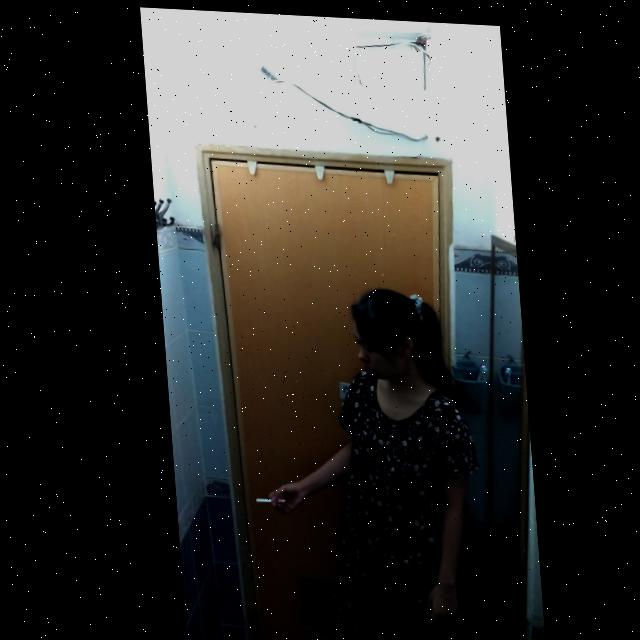cigarette: (247, 495, 278, 502)
